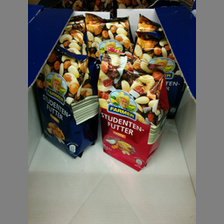nuts: (97, 48, 170, 171), (36, 46, 99, 158)
